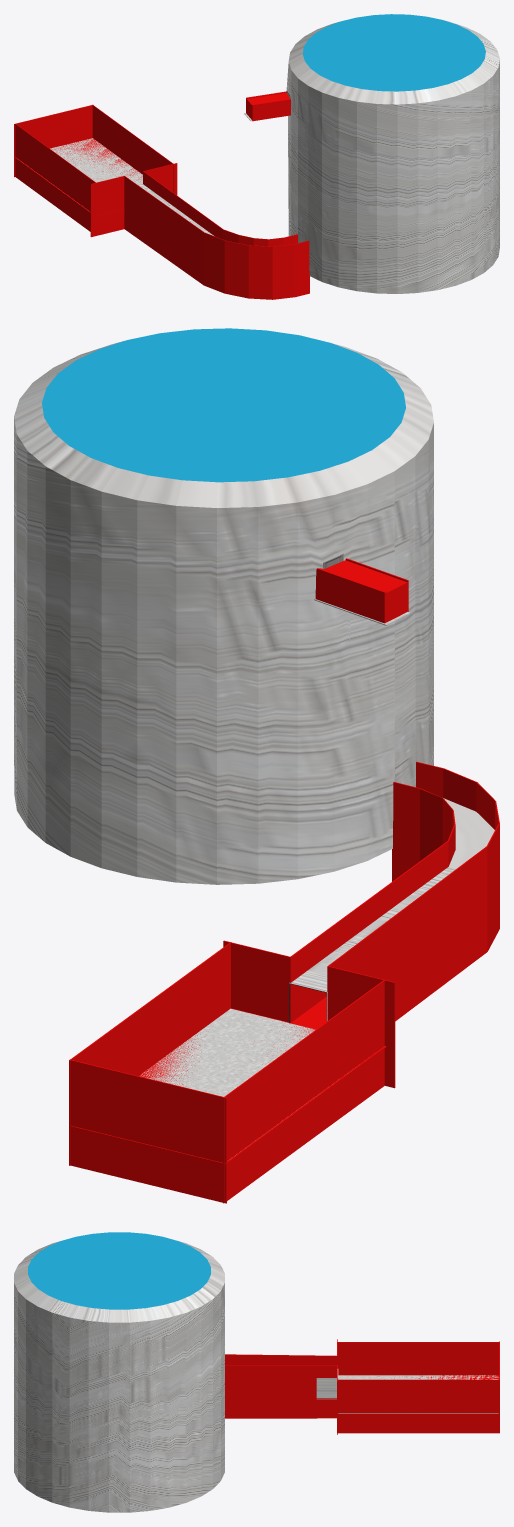
File: chap_5_dinner.glb
3 renders of one model, top to bottom at view 1: azimuth 30°, elevation 25°; view 2: azimuth 150°, elevation 25°; view 3: azimuth 270°, elevation 25°, orthographic. The views are drawn at different scales.
Visible parts, largest first — view 1: Circle, Cube.008, Cube.002, Cube.001, Cube.003, Cube.009, Cube.005, Cube.007, Plane.001, Cube, Cube.004, Cube.010; view 2: Circle, Cube.002, Cube.003, Cube.008, Cube.007, Cube.001, Cube.009, Plane.001, Cube.004, Cube.010, Cube.005, Cube; view 3: Circle, Cube.001, Cube.007, Cube.002, Cube.008, Cube.009, Cube.010.
Part boxes in pixels (x1=…): Circle: x1=286, y1=14, x2=499, y2=293; Cube.008: x1=124, y1=176, x2=309, y2=299; Cube.002: x1=15, y1=123, x2=96, y2=235; Cube.001: x1=92, y1=104, x2=173, y2=192; Cube.003: x1=14, y1=105, x2=92, y2=177; Cube.009: x1=50, y1=138, x2=142, y2=184; Cube.005: x1=90, y1=176, x2=124, y2=237; Cube.007: x1=143, y1=171, x2=297, y2=246; Plane.001: x1=246, y1=91, x2=290, y2=121; Cube: x1=14, y1=138, x2=142, y2=216; Cube.004: x1=143, y1=163, x2=177, y2=195; Cube.010: x1=138, y1=184, x2=214, y2=236; Circle: x1=14, y1=328, x2=433, y2=884; Cube.002: x1=223, y1=979, x2=385, y2=1203; Cube.003: x1=69, y1=1059, x2=226, y2=1203; Cube.008: x1=328, y1=761, x2=499, y2=1021; Cube.007: x1=290, y1=782, x2=455, y2=1022; Cube.001: x1=69, y1=942, x2=231, y2=1165; Cube.009: x1=140, y1=1008, x2=347, y2=1155; Plane.001: x1=315, y1=558, x2=408, y2=623; Cube.004: x1=223, y1=940, x2=291, y2=1022; Cube.010: x1=289, y1=798, x2=494, y2=1022; Cube.005: x1=327, y1=966, x2=395, y2=1088; Cube: x1=70, y1=1008, x2=386, y2=1164; Circle: x1=14, y1=1232, x2=224, y2=1512; Cube.001: x1=337, y1=1379, x2=499, y2=1433; Cube.007: x1=225, y1=1365, x2=336, y2=1418; Cube.002: x1=337, y1=1342, x2=499, y2=1375; Cube.008: x1=225, y1=1354, x2=337, y2=1364; Cube.009: x1=338, y1=1375, x2=498, y2=1413; Cube.010: x1=316, y1=1369, x2=338, y2=1399.
Size of the model in its own units: 51.35 by 37.13 by 75.39.
5 materials, 3 textured.
